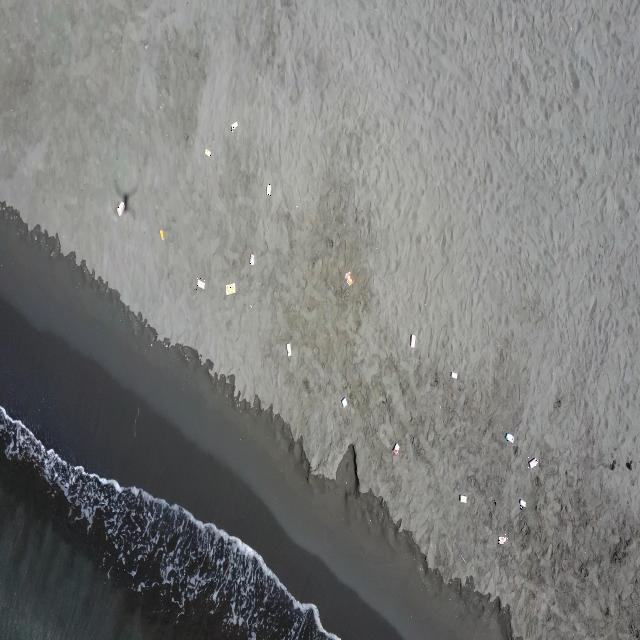Garbage: (224, 281, 235, 295), (344, 271, 352, 286), (116, 200, 123, 216), (528, 456, 537, 467), (504, 432, 513, 443), (196, 276, 204, 288), (497, 535, 507, 544), (409, 333, 415, 347), (340, 395, 347, 407), (459, 493, 467, 503), (392, 444, 399, 455), (519, 497, 526, 508), (231, 120, 238, 131), (266, 183, 271, 195), (204, 148, 211, 156), (248, 253, 253, 264), (287, 343, 291, 355), (451, 371, 456, 379), (160, 228, 163, 240)
